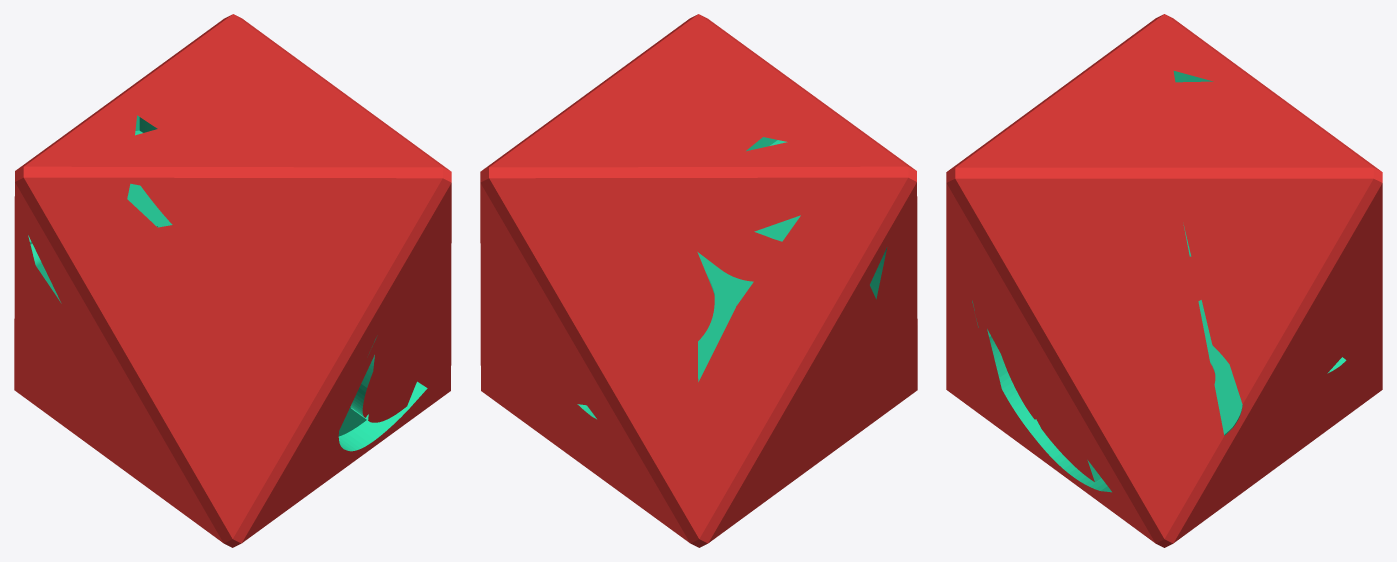
3 renders of one model, left to right at view 1: azimuth 30°, elevation 25°; view 2: azimuth 150°, elevation 25°; view 3: azimuth 270°, elevation 25°, orthographic.
Visible parts, largest first — view 1: Solid.003; view 2: Solid.003; view 3: Solid.003.
Boxes of the visible parts, bbox=[...] form: Solid.003: bbox=[14, 14, 451, 547]; Solid.003: bbox=[480, 14, 917, 547]; Solid.003: bbox=[946, 14, 1382, 547].
Size of the model in its own units: 197 by 143 by 171.
